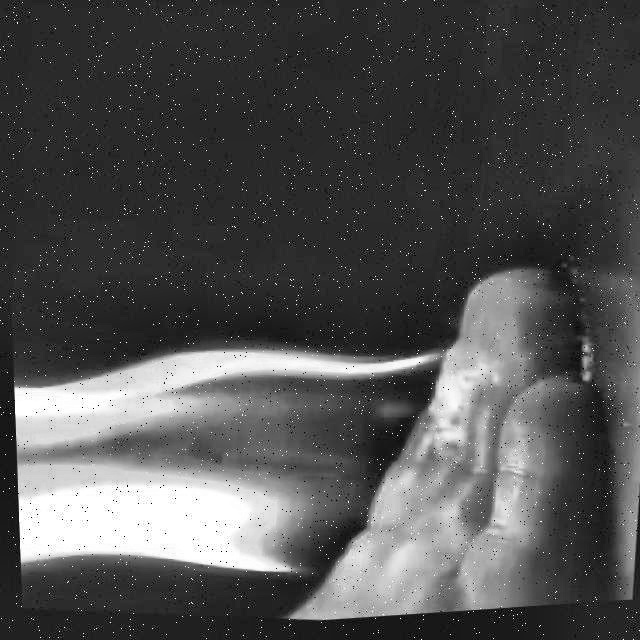Fire: (9, 295, 495, 635)
